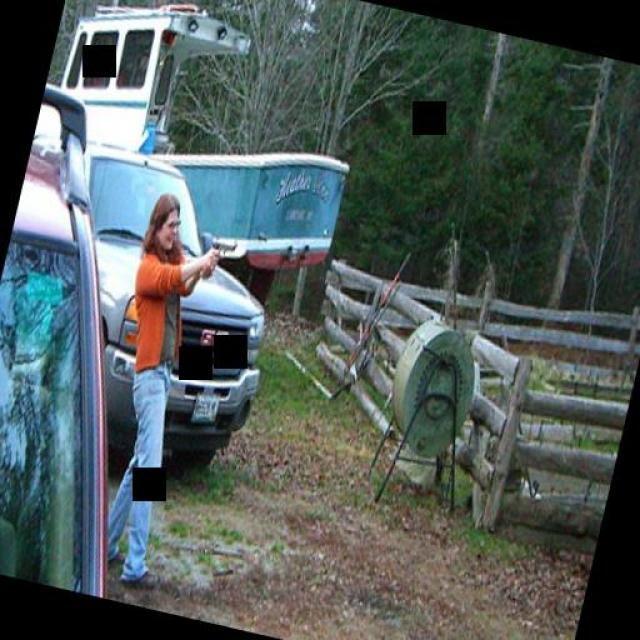gun: (202, 230, 240, 279)
